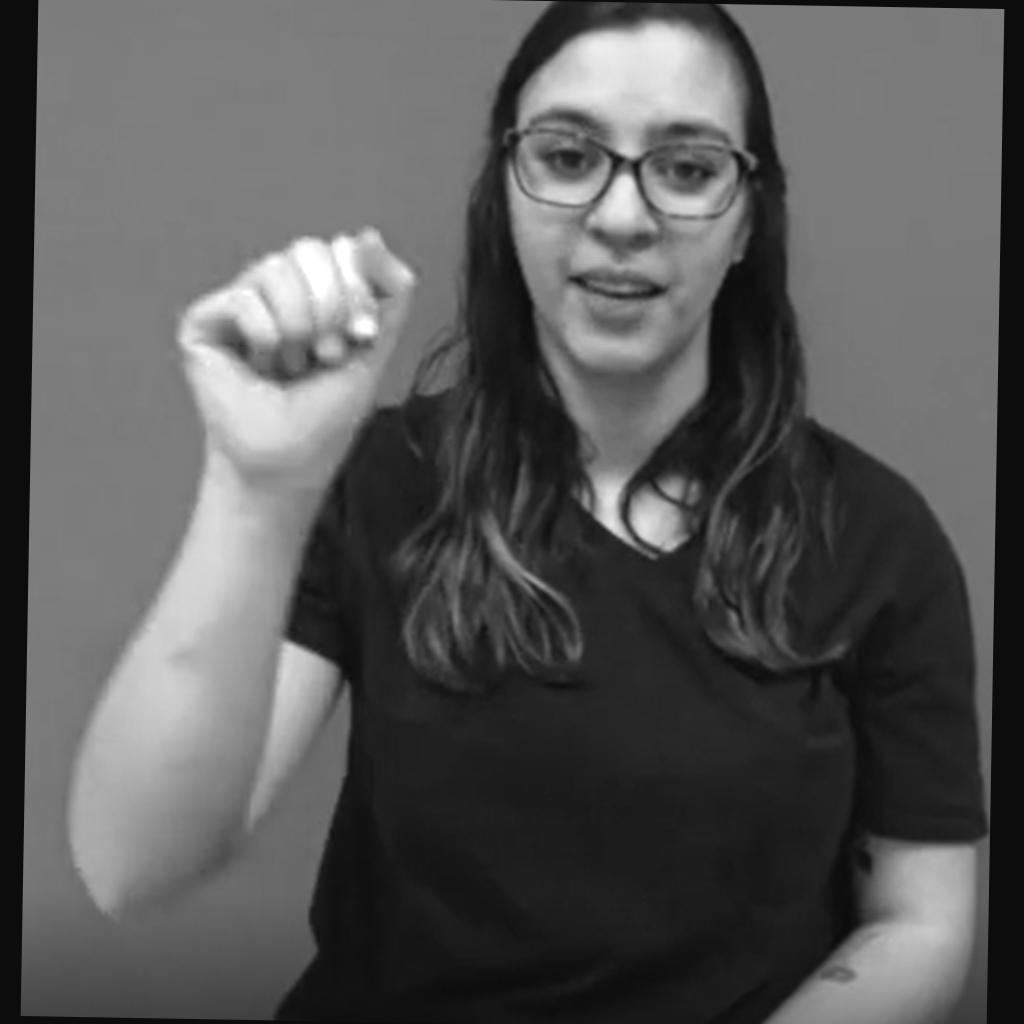yes: (176, 225, 418, 477)
